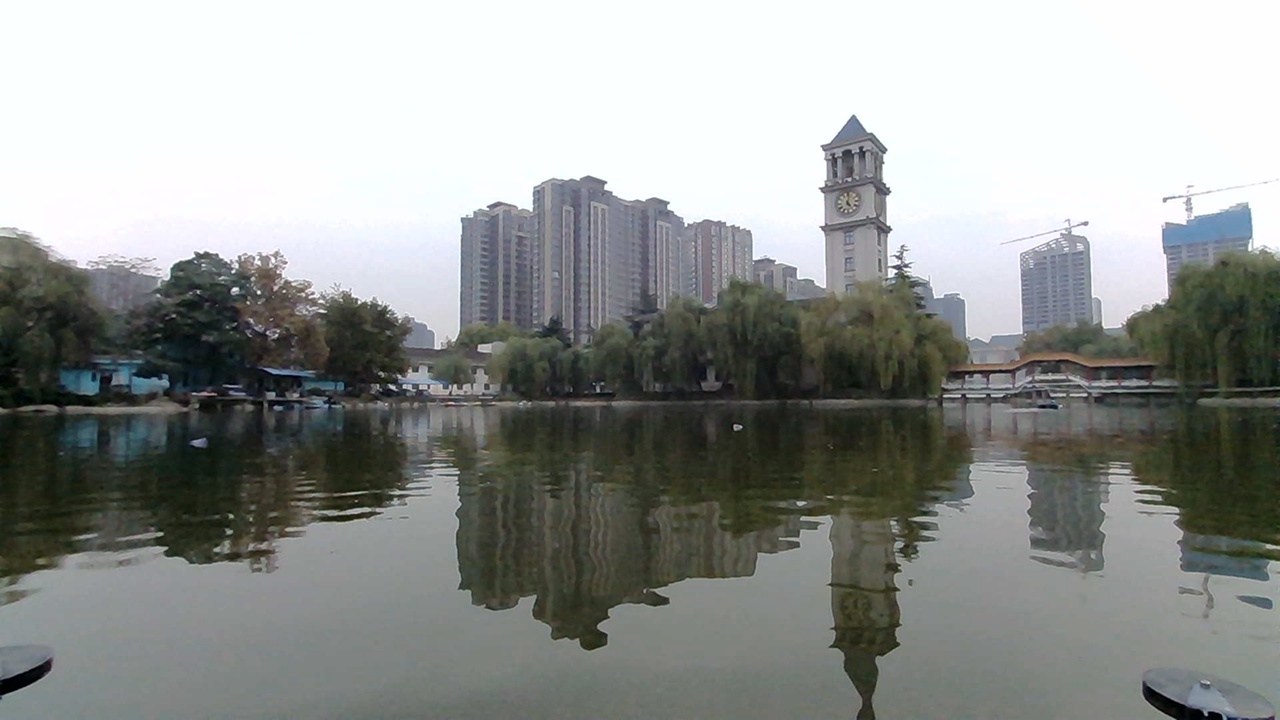bottle: (188, 419, 237, 456), (718, 409, 761, 438)
